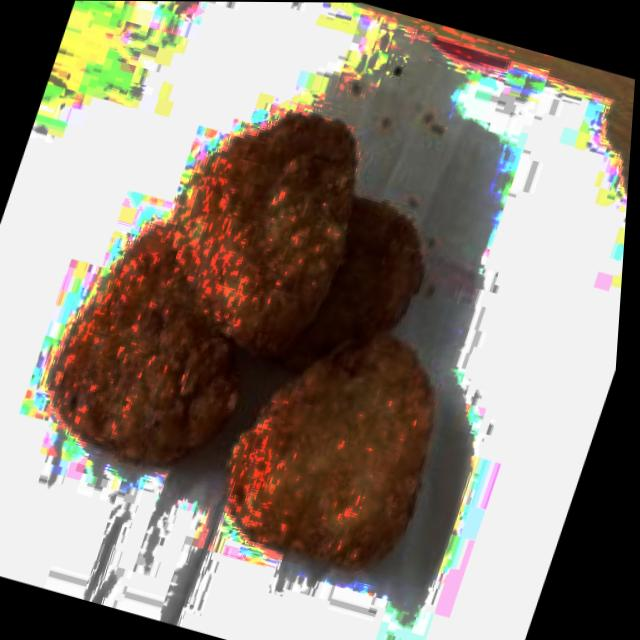Hashbrown: (202, 301, 465, 583), (29, 204, 286, 483), (138, 86, 382, 365), (260, 184, 442, 396)
